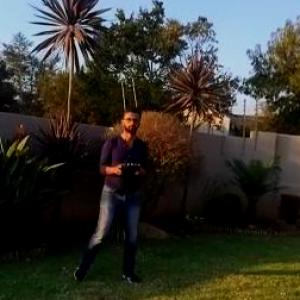follow: (64, 98, 154, 289)
